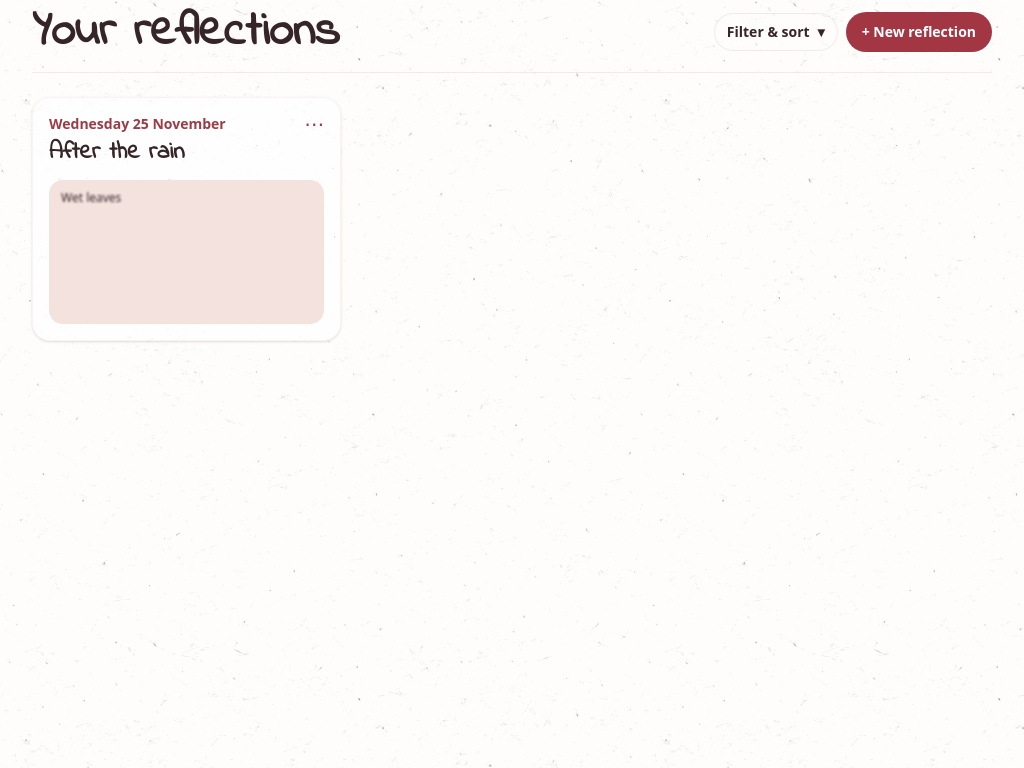
Scenario: reflection deletion › persists a confirmed deletion before requesting sync while online
Click the heading named "Actions for After the rain": click(314, 124) x1=304 y1=110 x2=324 y2=137
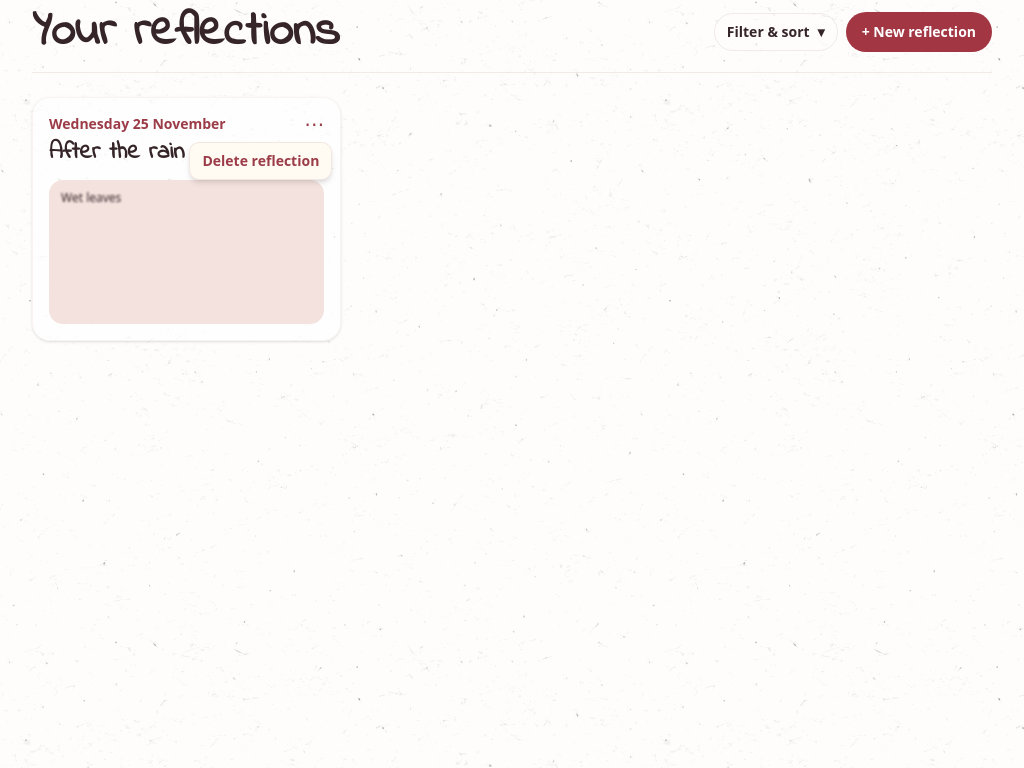
Click the button "Delete reflection": click(261, 161) x1=189 y1=142 x2=332 y2=180
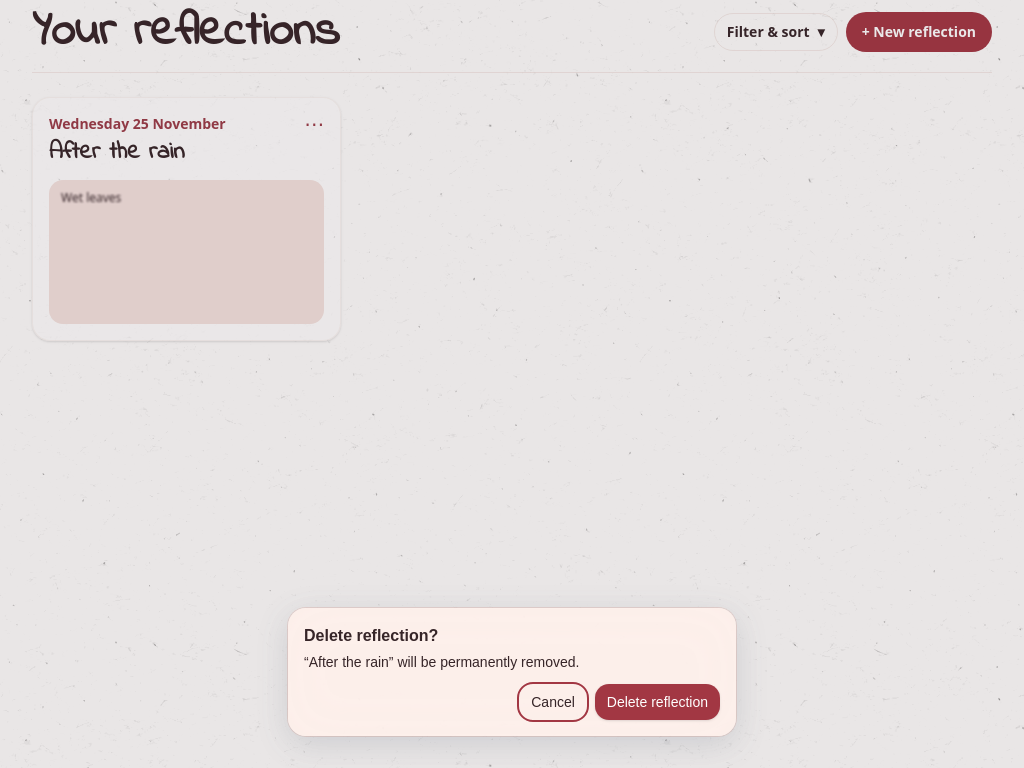
Click the button "Delete reflection": click(657, 702) x1=595 y1=684 x2=720 y2=720
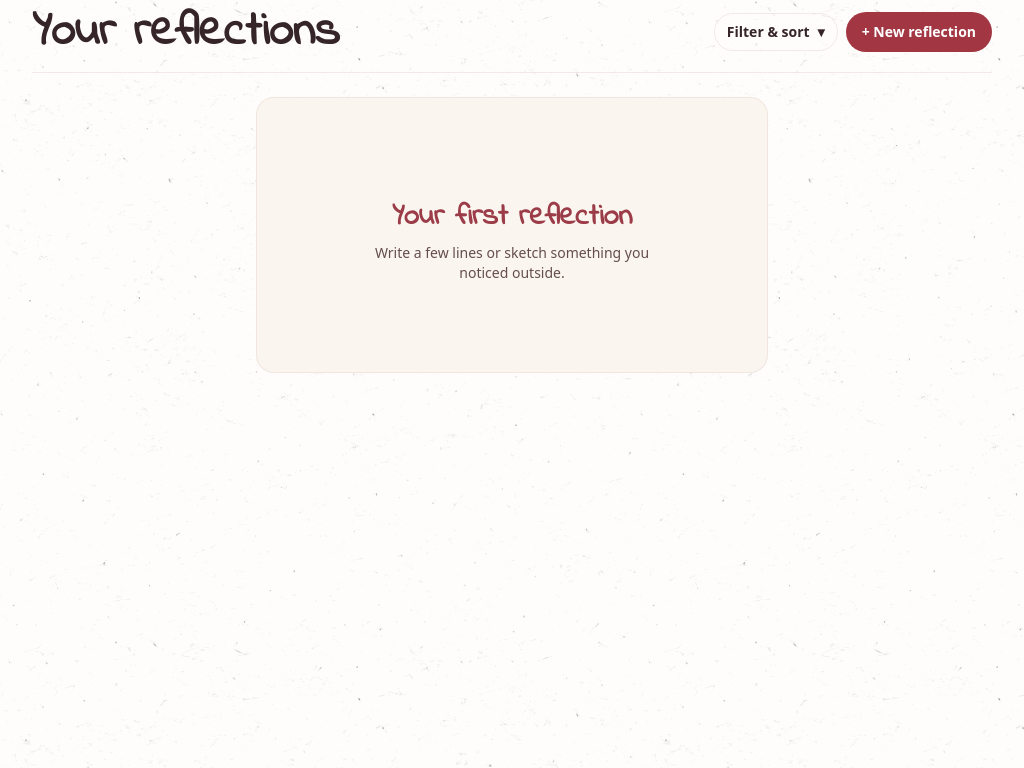
Expected: the link "After the rain" is gone
